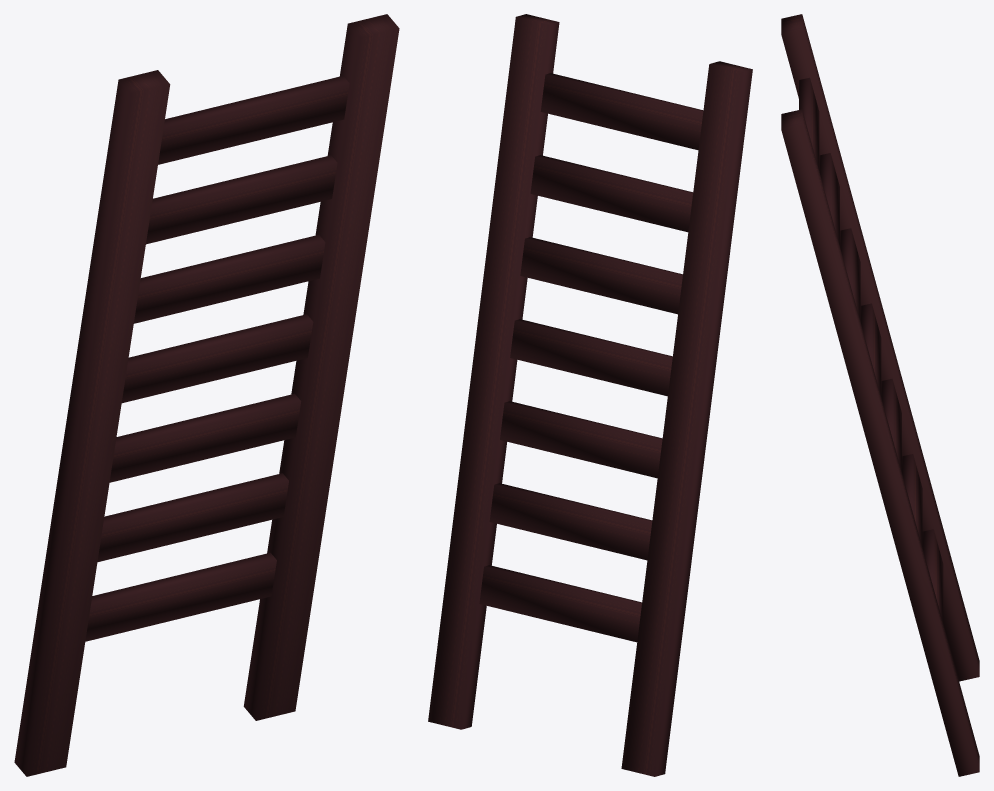
File: Escada.fbx
The picture shows the model from 3 angles, left to right: view 1: azimuth 30°, elevation 25°; view 2: azimuth 150°, elevation 25°; view 3: azimuth 270°, elevation 25°; orthographic projection. The views are drawn at different scales.
Visible parts, largest first — view 1: Escada; view 2: Escada; view 3: Escada.
Part boxes in pixels (x1,y1,x2,y2): Escada: (14,14,399,776); Escada: (428,14,752,776); Escada: (781,14,979,776).
Size of the model in its own units: 91.82 by 68.81 by 250.
